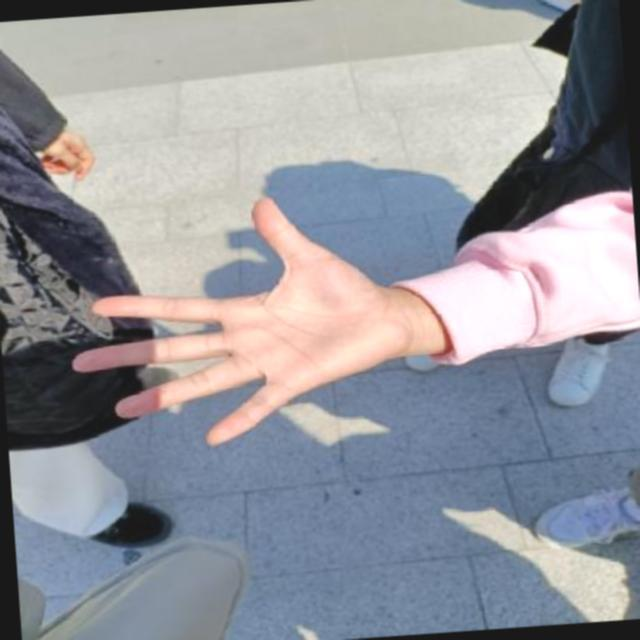hand: (44, 175, 434, 462)
